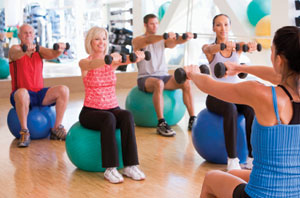yogaball: (65, 120, 136, 175), (124, 83, 188, 127), (5, 104, 54, 139)
